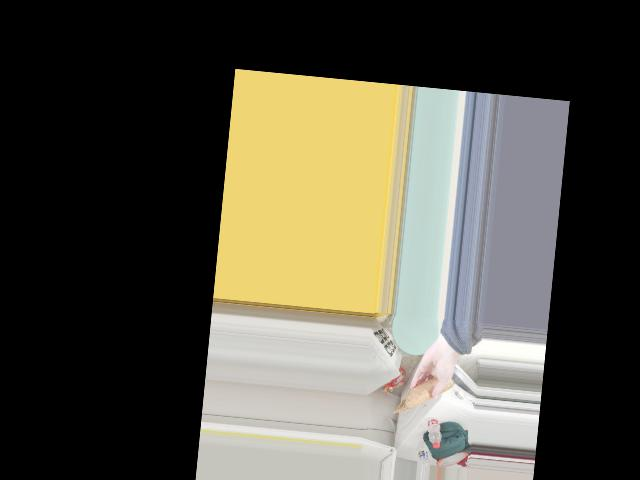sweet_potato: (414, 369, 453, 404)
